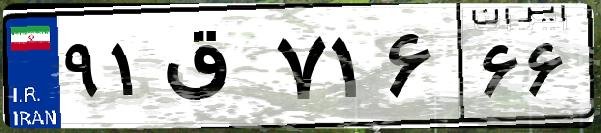1: (330, 28, 385, 110), (110, 28, 158, 98)
6: (385, 28, 445, 110), (475, 38, 525, 113), (525, 38, 570, 115)
7: (270, 28, 330, 110)
9: (57, 26, 110, 100)
ق: (158, 20, 270, 120)
